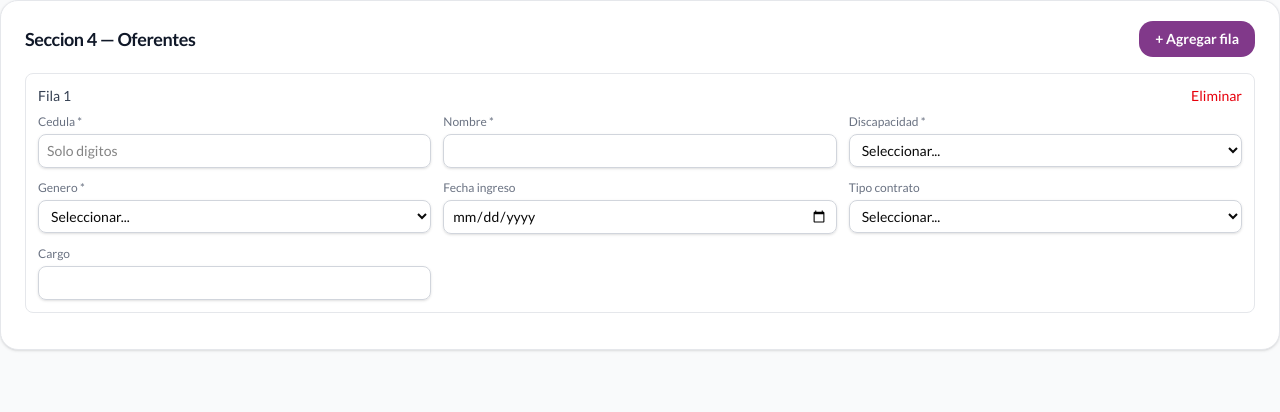
Seccion4 catalog readonly state › permite corregir discapacidad vacia de BD y mantiene genero canonico readonly
Type "123456" into the field with placeholder "Solo digitos".
click(235, 151); type("123456")  # box [38,134,431,168]
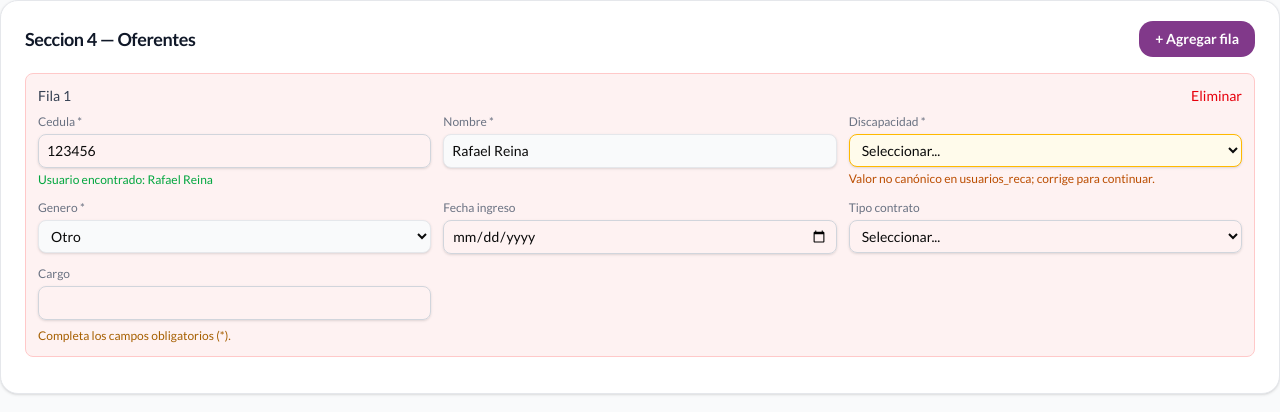
Expected: the text "Usuario encontrado: Rafael Reina" is shown, [38,172,213,187]
Expected: the dropdown below "Genero *" is disabled, [38,220,431,253]
Expected: the dropdown below "Genero *" shows "Otro", [38,220,431,253]
